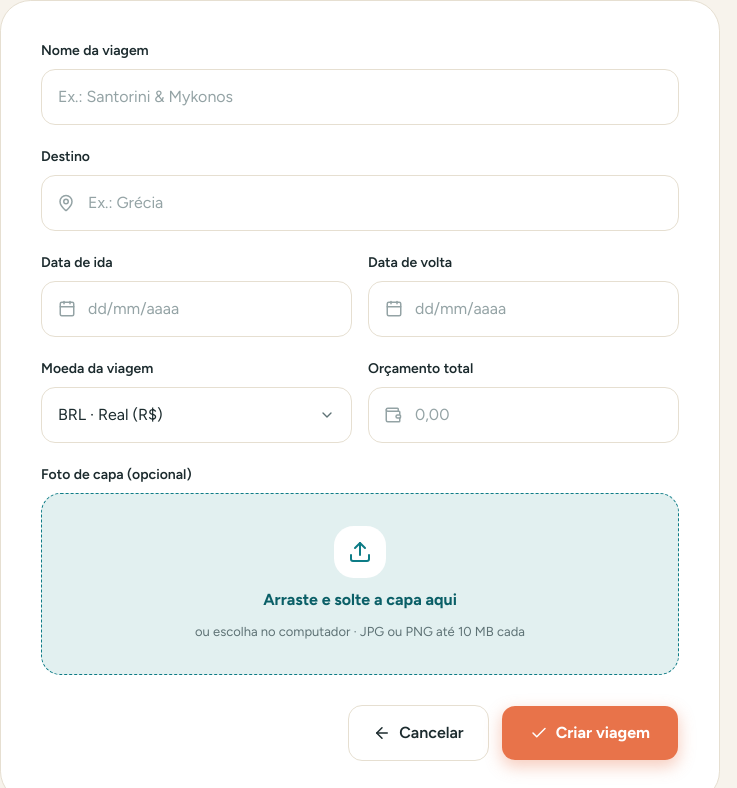
Test: NewTripForm › clears an error once the field is fixed after the first submit
The image size is (737, 788).
Click the button "Criar viagem": click(590, 732) [501,704,679,760]
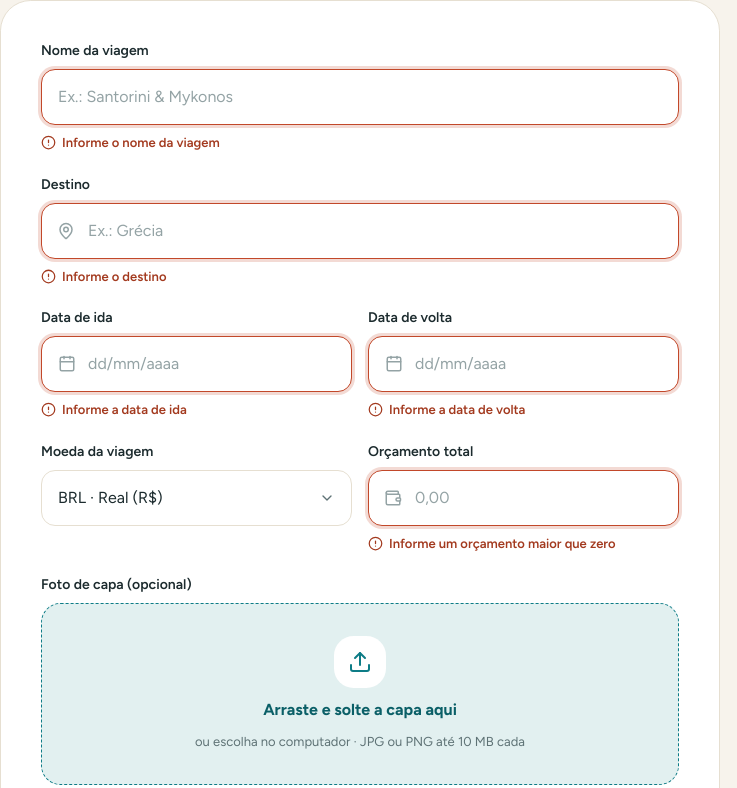
Now the text "Informe o destino" is shown, box [41,268,166,284]
In the field labelled "Destino": (360, 230) [41,202,679,258], type "G"
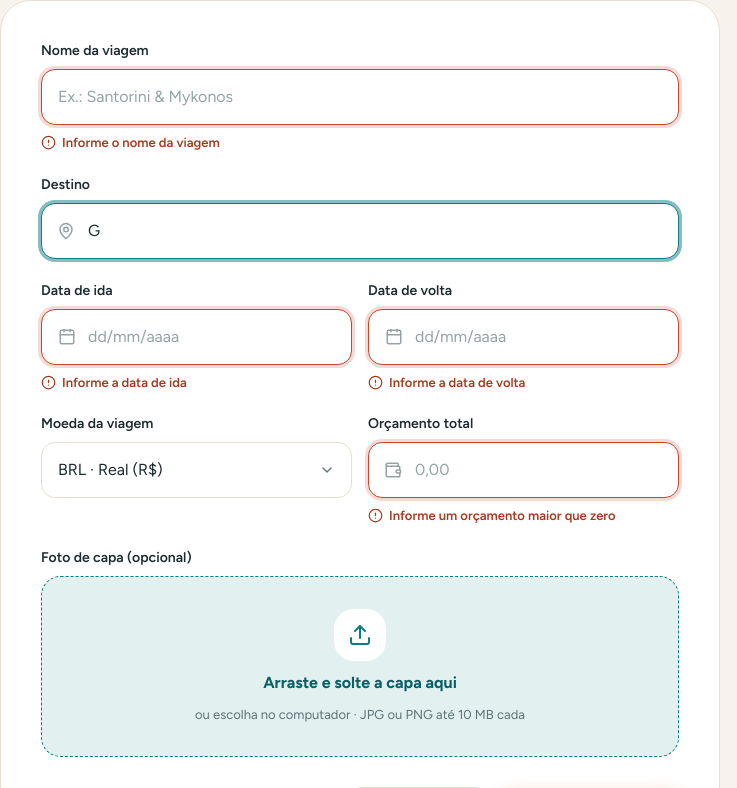
Now the text "Informe o destino" is gone
